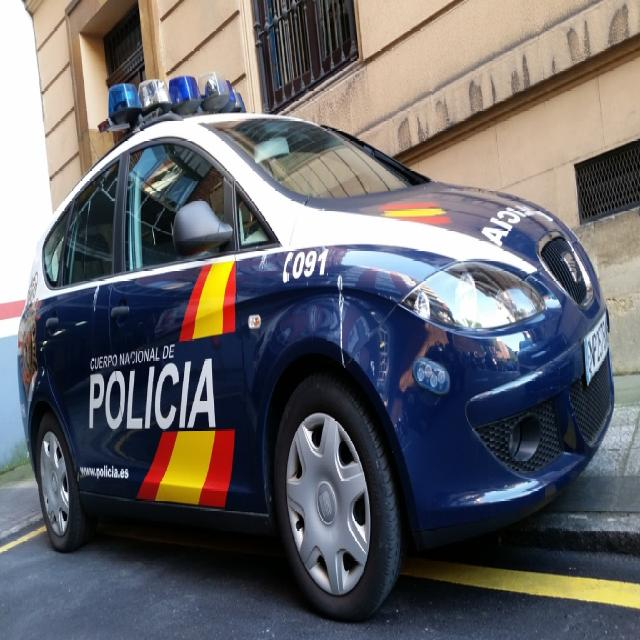car: (11, 64, 611, 625)
